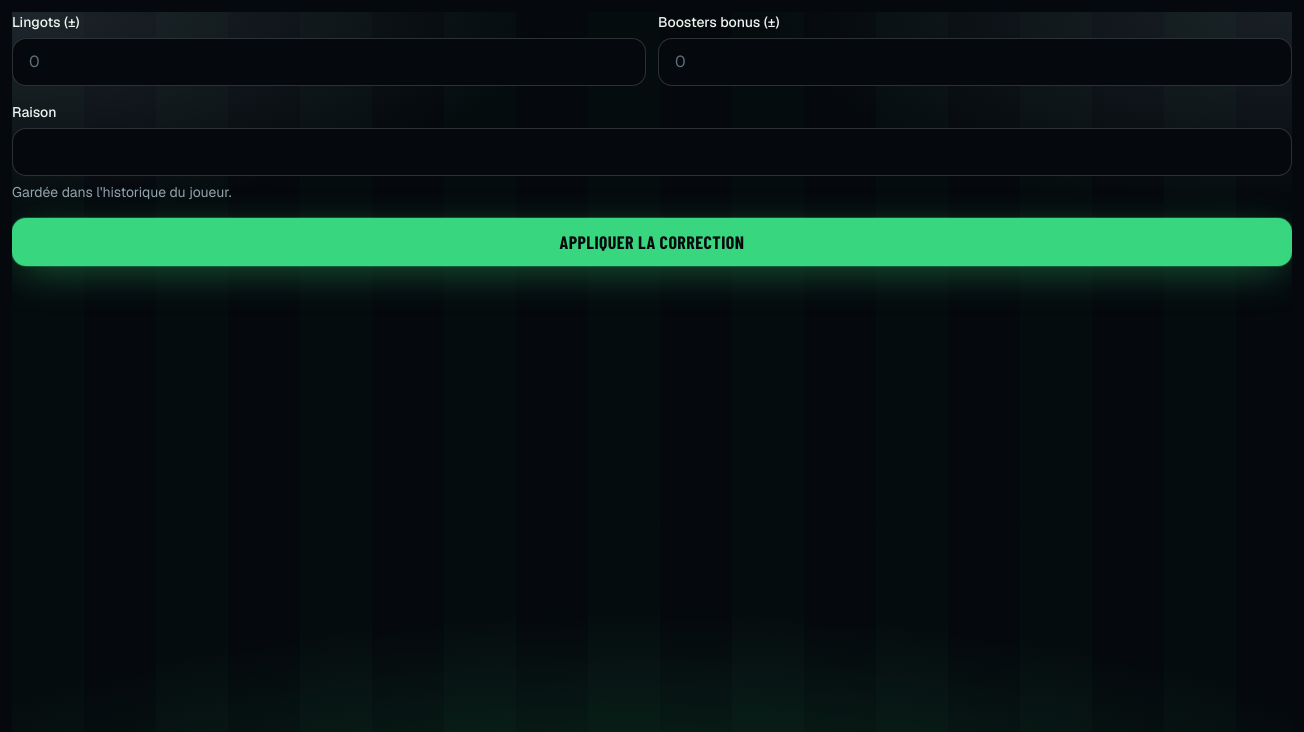
Test: formulaires d'administration › envoie une correction et affiche la confirmation
Type "50" into the field labelled "Lingots (±)" at (329, 62), box [12,38,646,86]
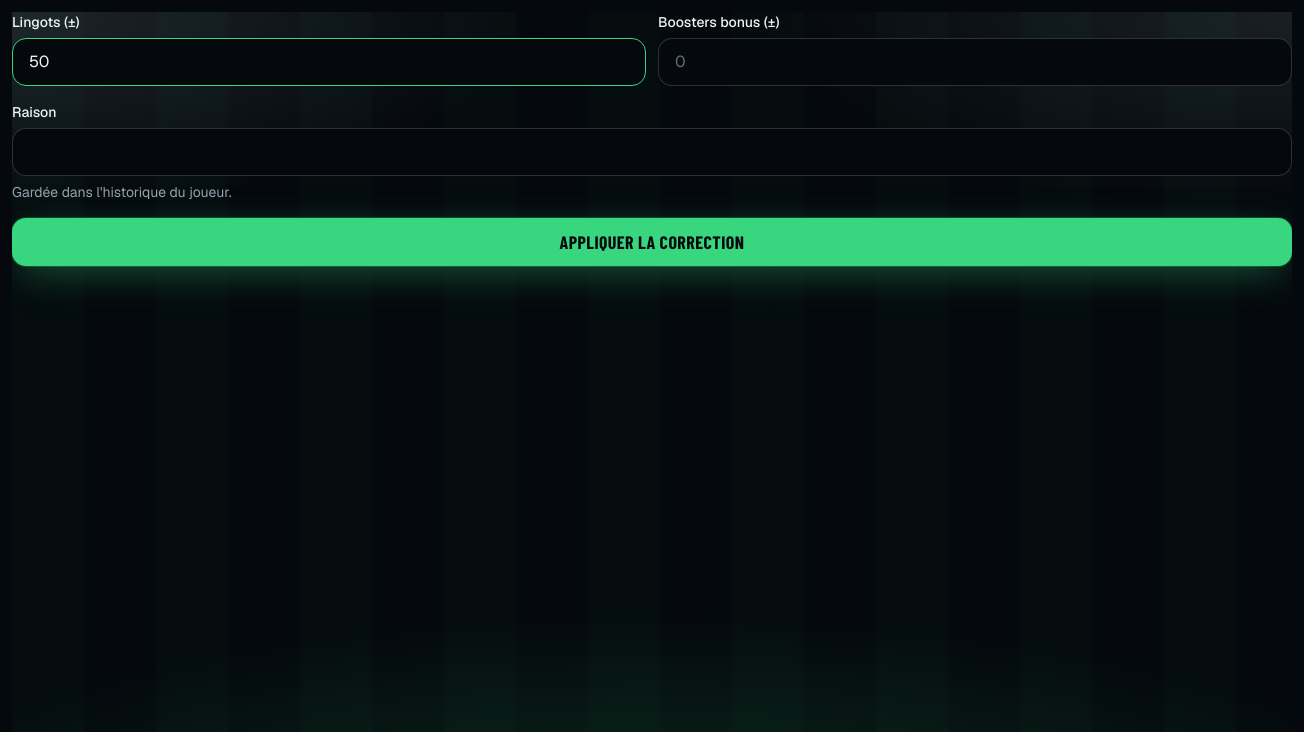
Type "Geste commercial" into the field labelled "Raison" at (652, 152), box [12,128,1292,176]
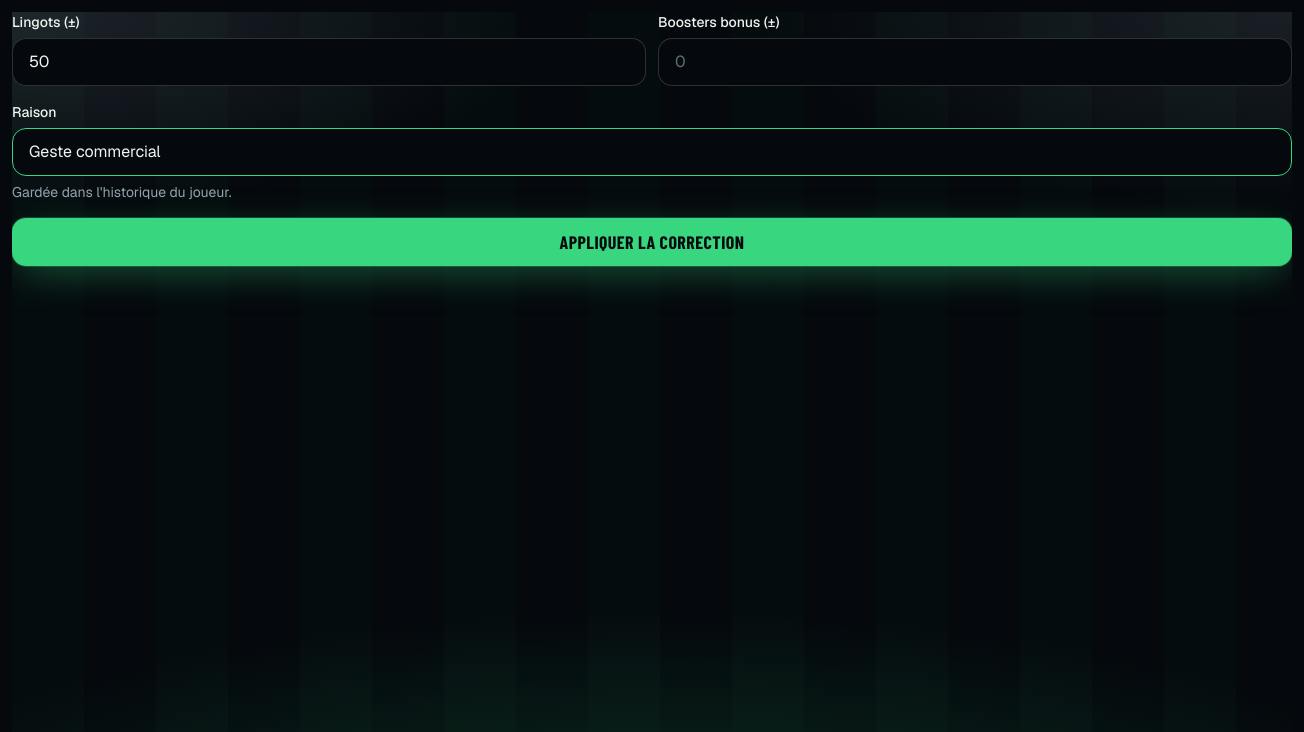
Click the button "Appliquer la correction" at (652, 242), box [12,218,1292,266]
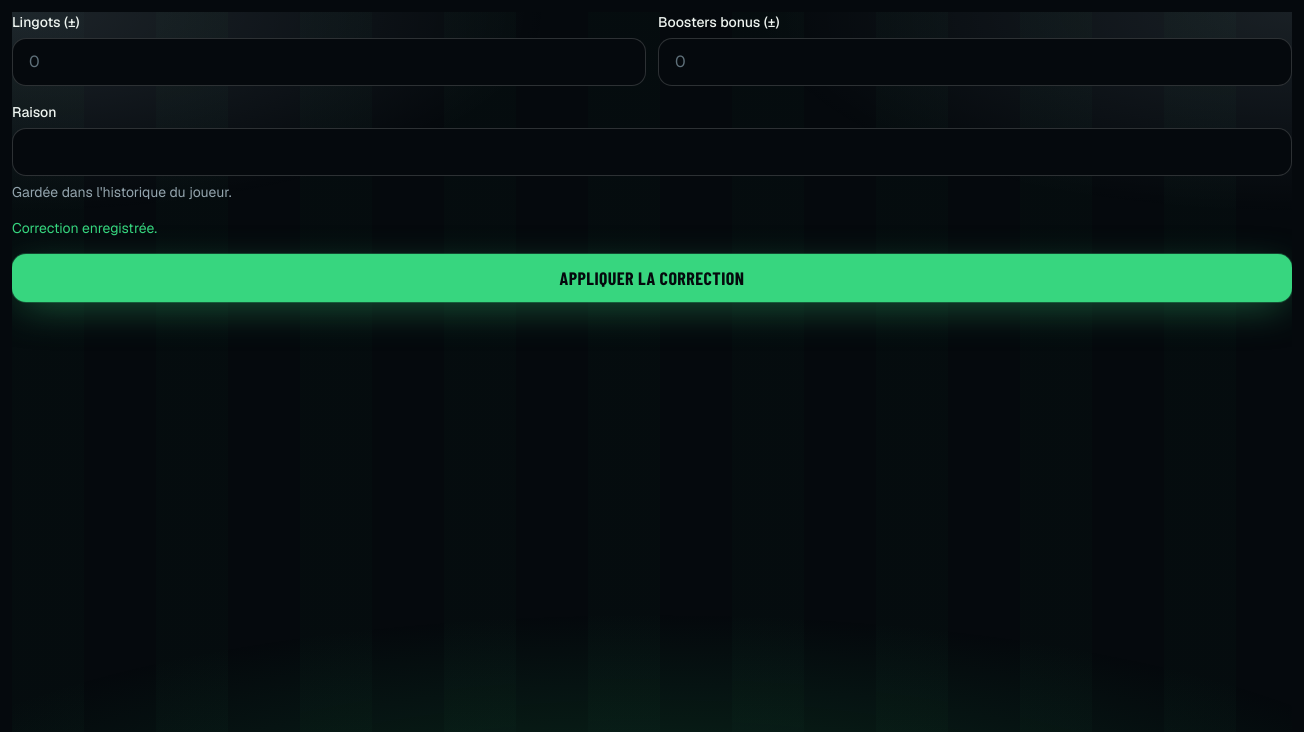
Check: the message reads "Correction enregistrée.", box [12,219,157,237]
